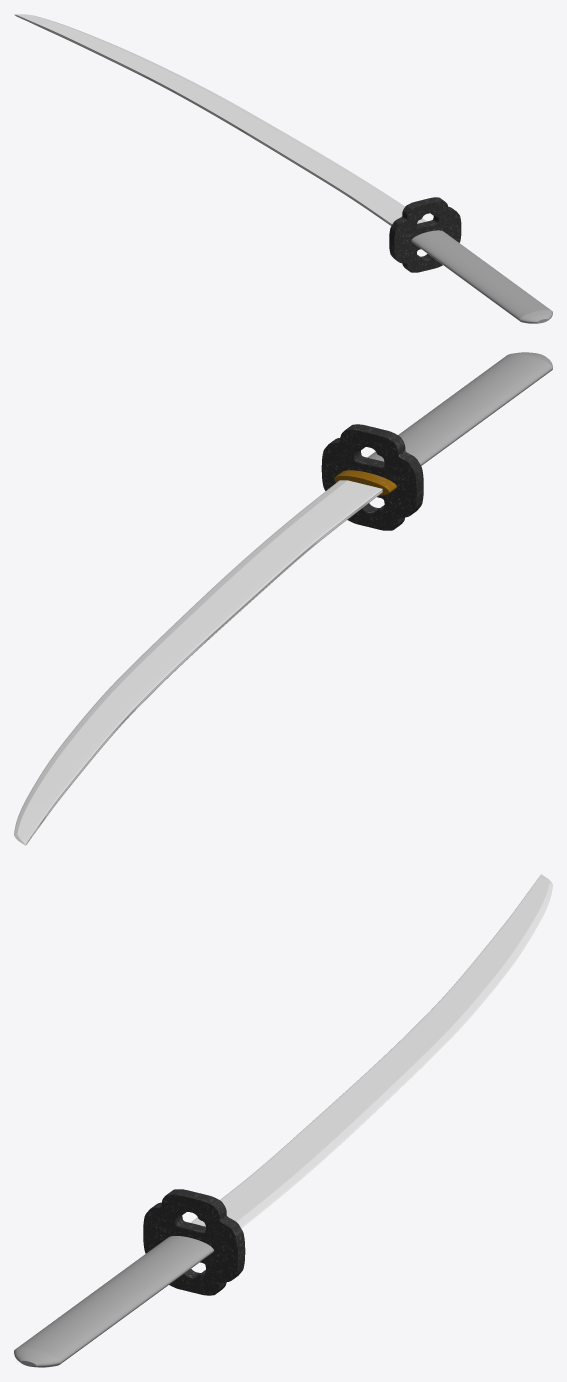
The model's file is katana.glb.
3 views of the same model, one above another, from view 1: azimuth 30°, elevation 25°; view 2: azimuth 150°, elevation 25°; view 3: azimuth 330°, elevation 25° (orthographic). The views are drawn at different scales.
Parts seen in each view (by area): view 1: blade, handle, guard; view 2: blade, handle, guard, neck; view 3: blade, handle, guard.
Boxes of the visible parts, x1,y1,x2,y2 form: blade: (14, 14, 426, 225); handle: (411, 230, 552, 323); guard: (389, 197, 461, 272); blade: (14, 480, 382, 845); handle: (367, 352, 552, 465); guard: (321, 424, 423, 530); neck: (334, 470, 396, 495); blade: (190, 874, 552, 1228); handle: (14, 1236, 213, 1367); guard: (143, 1189, 245, 1295).
Size of the model in its own units: 0.8903 by 0.4891 by 5.91.
Materials: 4 (3 with a texture image).
